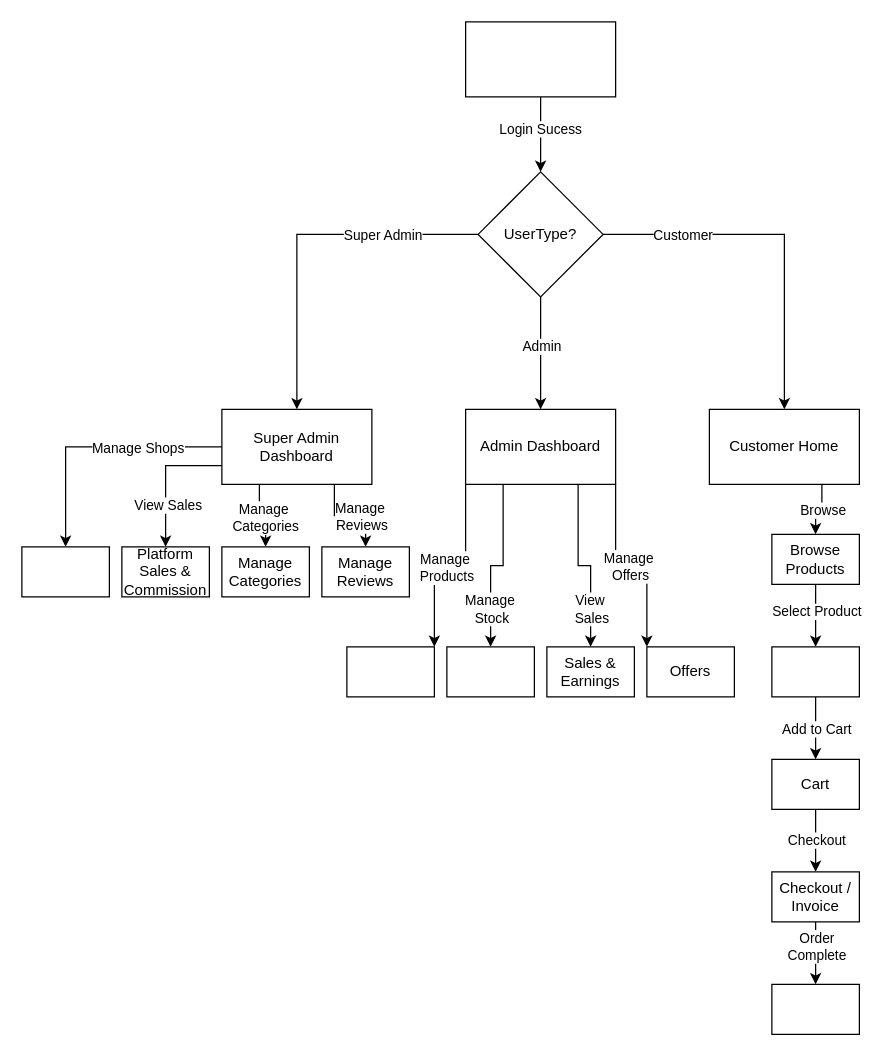
Image size: 883x1056. Some labels were removed from this diagram. Each missing label, with the box of its shape:
Inventory / Stock: (446, 646, 534, 697)
Login Form: (464, 21, 616, 97)
Manage Shop Owners: (21, 546, 109, 597)
Order History: (771, 983, 859, 1034)
Product Details & Reviews: (771, 646, 859, 697)
Product Management: (346, 646, 434, 697)
